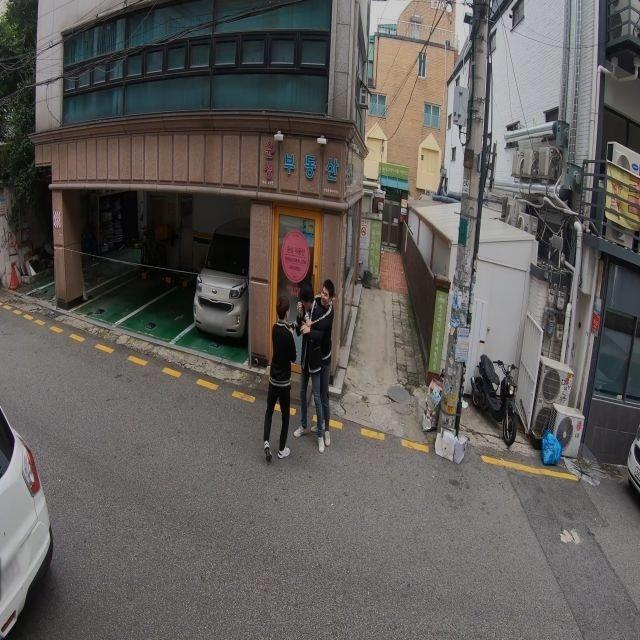fight: (262, 278, 335, 463)
